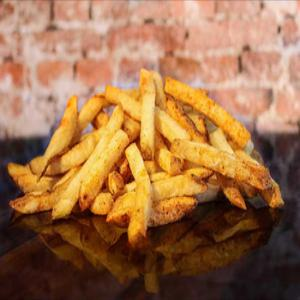fries: (8, 66, 284, 251)
